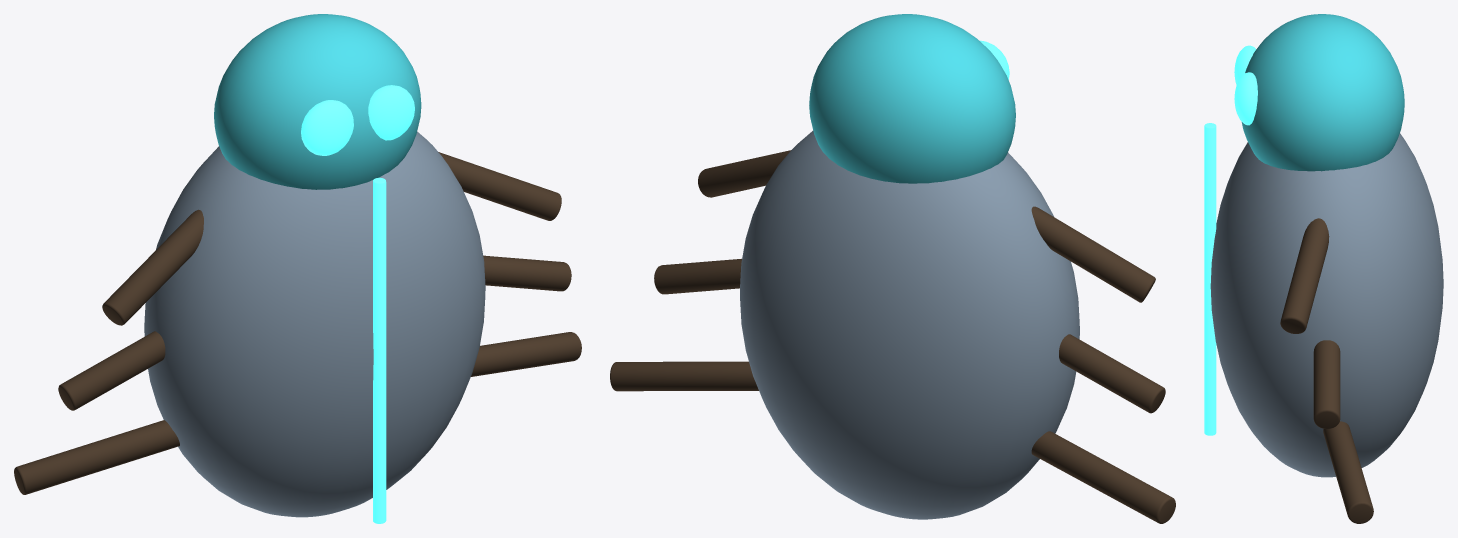
Rendered from crawler_v2.glb.
The picture shows the model from 3 angles, left to right: view 1: azimuth 30°, elevation 25°; view 2: azimuth 150°, elevation 25°; view 3: azimuth 270°, elevation 25°; orthographic projection. The views are drawn at different scales.
Parts seen in each view (by area): view 1: BEETLE_SHELL_PRIMARY, BEETLE_HEAD_ACCENT, BEETLE_LEG_SECONDARY.004, SHELL_SEAM_EMISSIVE, BEETLE_LEG_SECONDARY, BEETLE_LEG_SECONDARY.002, BEETLE_LEG_SECONDARY.001, BEETLE_LEG_SECONDARY.005, BEETLE_LEG_SECONDARY.003, EYE_EMISSIVE, EYE_EMISSIVE.001; view 2: BEETLE_SHELL_PRIMARY, BEETLE_HEAD_ACCENT, BEETLE_LEG_SECONDARY.004, BEETLE_LEG_SECONDARY.005, BEETLE_LEG_SECONDARY, BEETLE_LEG_SECONDARY.002, BEETLE_LEG_SECONDARY.003, BEETLE_LEG_SECONDARY.001; view 3: BEETLE_SHELL_PRIMARY, BEETLE_HEAD_ACCENT, SHELL_SEAM_EMISSIVE, BEETLE_LEG_SECONDARY.001, BEETLE_LEG_SECONDARY.005, BEETLE_LEG_SECONDARY.003, EYE_EMISSIVE.001, EYE_EMISSIVE.
Boxes of the visible parts, x1,y1,x2,y2 form: BEETLE_SHELL_PRIMARY: [144, 131, 485, 517]; BEETLE_HEAD_ACCENT: [214, 14, 421, 189]; BEETLE_LEG_SECONDARY.004: [14, 420, 179, 494]; SHELL_SEAM_EMISSIVE: [373, 177, 386, 523]; BEETLE_LEG_SECONDARY: [102, 209, 203, 325]; BEETLE_LEG_SECONDARY.002: [58, 331, 165, 410]; BEETLE_LEG_SECONDARY.001: [438, 152, 561, 220]; BEETLE_LEG_SECONDARY.005: [471, 332, 581, 376]; BEETLE_LEG_SECONDARY.003: [483, 255, 571, 291]; EYE_EMISSIVE: [301, 100, 353, 155]; EYE_EMISSIVE.001: [368, 85, 414, 140]; BEETLE_SHELL_PRIMARY: [740, 130, 1079, 519]; BEETLE_HEAD_ACCENT: [809, 14, 1015, 183]; BEETLE_LEG_SECONDARY.004: [1031, 431, 1175, 523]; BEETLE_LEG_SECONDARY.005: [610, 361, 758, 391]; BEETLE_LEG_SECONDARY: [1031, 206, 1155, 302]; BEETLE_LEG_SECONDARY.002: [1059, 334, 1165, 413]; BEETLE_LEG_SECONDARY.003: [654, 258, 741, 294]; BEETLE_LEG_SECONDARY.001: [698, 150, 790, 197]; BEETLE_SHELL_PRIMARY: [1210, 133, 1443, 477]; BEETLE_HEAD_ACCENT: [1241, 14, 1404, 171]; SHELL_SEAM_EMISSIVE: [1204, 123, 1216, 435]; BEETLE_LEG_SECONDARY.001: [1280, 218, 1329, 333]; BEETLE_LEG_SECONDARY.005: [1323, 421, 1373, 523]; BEETLE_LEG_SECONDARY.003: [1313, 340, 1340, 428]; EYE_EMISSIVE.001: [1234, 72, 1257, 125]; EYE_EMISSIVE: [1234, 45, 1256, 84].
Bounding box in the file's own units: 1.97 × 1.64 × 0.8077.
